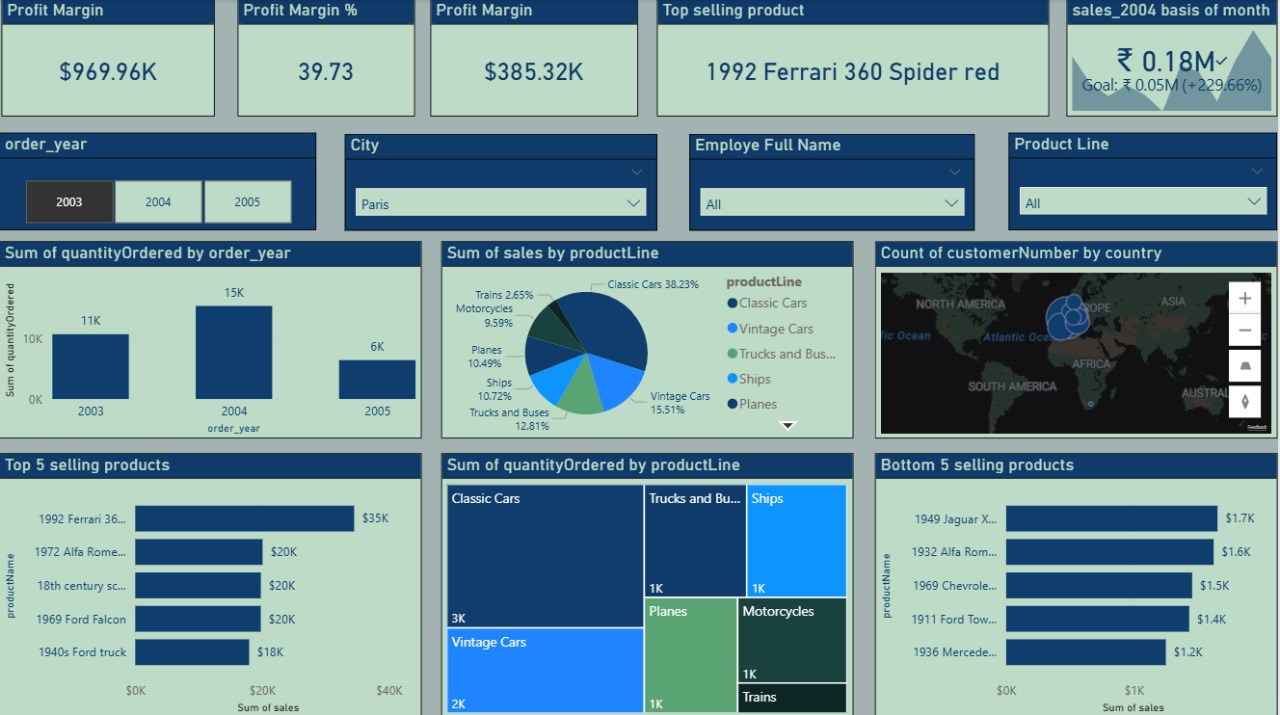

The page's visual inventory and layout, read from the dashboard file:
{"tool":"powerbi","page":{"name":"Page 1","canvas":[1280,720],"ordinal":0},"visuals":[{"type":"card","title":"Profit Margin","fields":{"Values":["order_details.total_profit"]},"box":[431.7,0,207.9,117.4],"z":0},{"type":"card","title":"Top selling product","fields":{"Values":["order_details.MostOrderedProduct"]},"box":[659.1,0,392.5,117.4],"z":1000},{"type":"barChart","title":"Top 5 selling products","fields":{"Category":["products.productName"],"Y":["Sum(order_details.sales)"]},"box":[0,454.8,423.5,265.4],"z":2000},{"type":"pieChart","fields":{"Category":["products.productLine"],"Y":["Sum(order_details.sales)"]},"box":[442.8,242.5,412.6,197.9],"z":3000},{"type":"slicer","title":"order_year","fields":{"Values":["orders.order_year"]},"box":[0,133.9,317.3,97.7],"z":4000},{"type":"kpi","title":"sales_2004 basis of month","fields":{"Indicator":["orders.sales_2004"],"Goal":["orders.sales_2003"],"TrendLine":["orders.Month Name"]},"box":[1068.8,0,211.6,117.4],"z":5000},{"type":"azureMap","fields":{"Size":["CountNonNull(customers.customerNumber)"],"Category":["customers.country"]},"box":[877.1,242.5,403,197.9],"z":6000},{"type":"treemap","fields":{"Group":["productLine.productLine"],"Values":["Sum(order_details.quantityOrdered)"]},"box":[442.8,454.8,412.6,265.4],"z":7000},{"type":"columnChart","fields":{"Category":["orders.order_year"],"Y":["Sum(order_details.quantityOrdered)"]},"box":[0,242.5,423.5,197.9],"z":8000},{"type":"card","title":"Profit Margin %","fields":{"Values":["orders.profit_margen_%"]},"box":[238.5,0,177.3,117.4],"z":9000},{"type":"card","title":"Profit Margin","fields":{"Values":["Sum(order_details.sales)"]},"box":[2.4,0,214,117.4],"z":10000},{"type":"slicer","title":"City","fields":{"Values":["offices.city"]},"box":[346.2,135.1,312.5,96.5],"z":11000},{"type":"slicer","title":"Employe Full Name","fields":{"Values":["employees.Emp_full name"]},"box":[691.3,135.1,285.9,96.5],"z":12000},{"type":"slicer","title":"Product Line","fields":{"Values":["productLine.productLine"]},"box":[1011,133.9,269,97.7],"z":13000},{"type":"barChart","title":"Bottom 5 selling products","fields":{"Category":["products.productName"],"Y":["Sum(order_details.sales)"]},"box":[877.1,454.8,403,265.4],"z":14000}]}

Visuals, with their boxes in screenshot pixels (x1, y1, x2, y2), scaled from the page's 1280x720 canvas onto the 1280x715 screenshot:
"Profit Margin" card: l=432, t=0, r=640, b=117
"Top selling product" card: l=659, t=0, r=1052, b=117
"Top 5 selling products" barChart: l=0, t=452, r=424, b=714
pieChart - products.productLine x Sum(order_details.sales): l=443, t=241, r=855, b=437
"order_year" slicer: l=0, t=133, r=317, b=230
"sales_2004 basis of month" kpi: l=1069, t=0, r=1279, b=117
azureMap - CountNonNull(customers.customerNumber) x customers.country: l=877, t=241, r=1279, b=437
treemap - productLine.productLine x Sum(order_details.quantityOrdered): l=443, t=452, r=855, b=714
columnChart - orders.order_year x Sum(order_details.quantityOrdered): l=0, t=241, r=424, b=437
"Profit Margin %" card: l=238, t=0, r=416, b=117
"Profit Margin" card: l=2, t=0, r=216, b=117
"City" slicer: l=346, t=134, r=659, b=230
"Employe Full Name" slicer: l=691, t=134, r=977, b=230
"Product Line" slicer: l=1011, t=133, r=1279, b=230
"Bottom 5 selling products" barChart: l=877, t=452, r=1279, b=714
